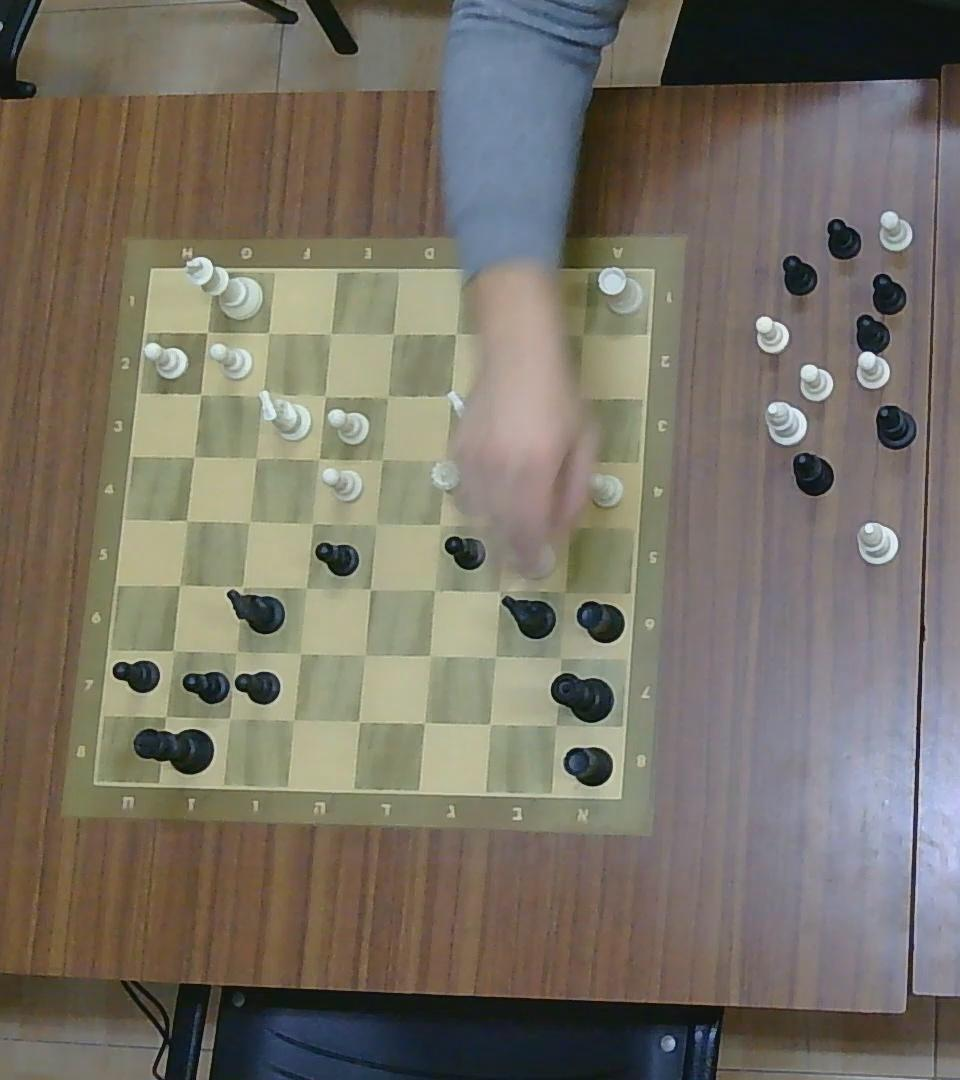xcorner: (215, 703, 242, 731), (411, 707, 437, 736), (476, 710, 503, 737), (542, 712, 569, 739), (153, 701, 179, 729), (287, 638, 312, 667), (280, 704, 305, 733), (559, 448, 584, 476), (352, 641, 377, 668), (417, 641, 442, 668), (346, 708, 371, 735), (481, 642, 506, 669), (160, 636, 185, 663), (167, 572, 192, 598), (496, 447, 520, 474), (549, 645, 574, 670), (237, 508, 261, 534), (223, 638, 247, 664), (318, 319, 342, 345), (195, 319, 219, 345), (375, 383, 399, 409), (504, 322, 528, 348), (174, 507, 198, 532), (229, 574, 253, 599), (257, 319, 280, 345), (181, 444, 204, 469), (364, 512, 387, 537), (380, 321, 403, 346), (294, 574, 317, 599), (188, 380, 211, 405), (421, 576, 444, 601), (250, 380, 273, 405), (427, 512, 450, 536), (437, 384, 460, 408), (570, 322, 594, 345), (493, 512, 516, 536), (444, 321, 466, 346), (300, 511, 323, 534), (306, 447, 329, 470), (359, 577, 382, 600), (370, 447, 393, 470), (559, 511, 582, 534), (432, 447, 455, 470), (245, 445, 267, 469), (552, 581, 576, 603), (499, 386, 521, 410), (313, 383, 335, 406), (487, 579, 510, 601), (564, 387, 587, 409)
